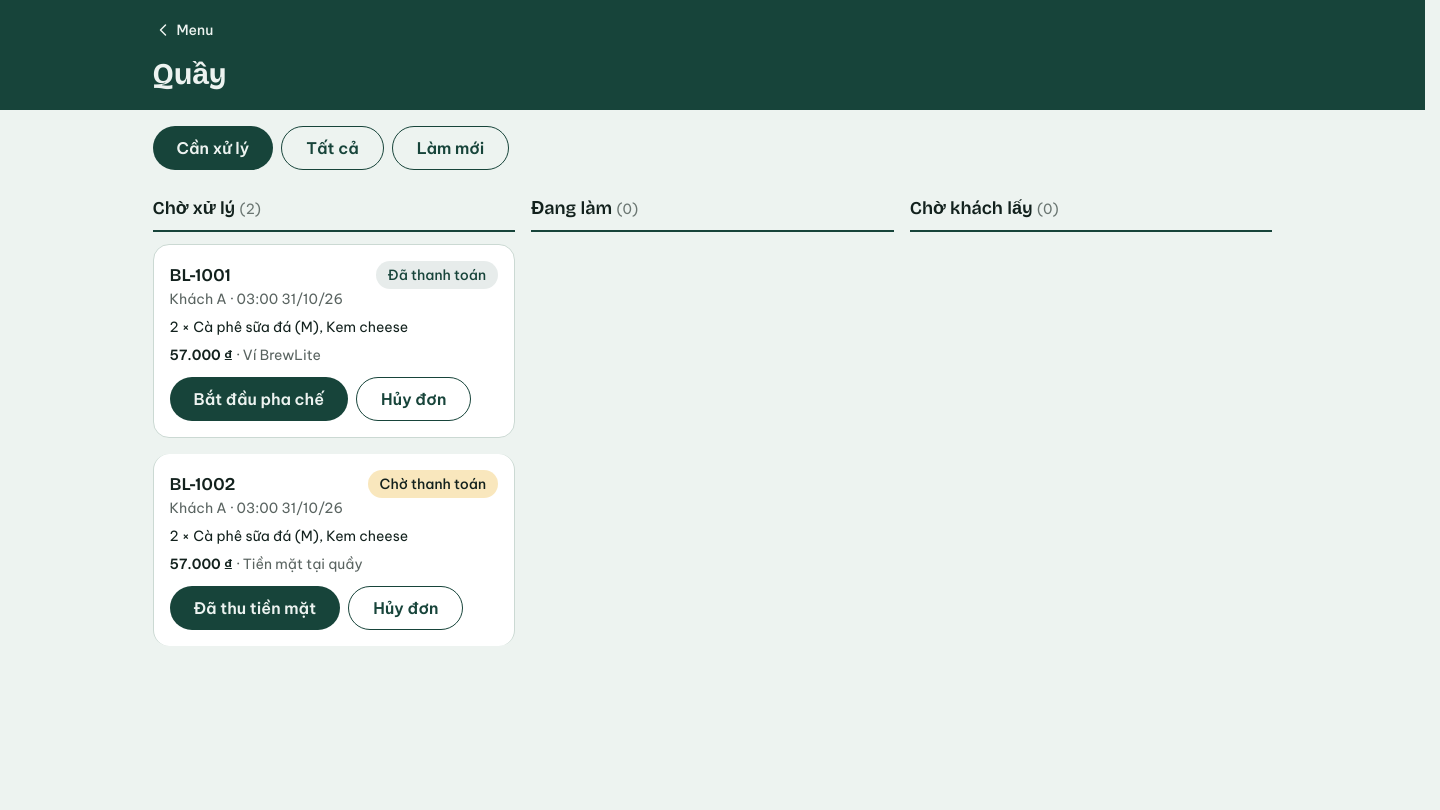
it: StaffOrdersScreen › bộ lọc Tất cả hiện mọi đơn
The image size is (1440, 810).
expect the text "BL-1001" is shown: met, box [170,264,231,286]
Click the button "Tất cả". click: (333, 148)
box: [281,126,384,170]
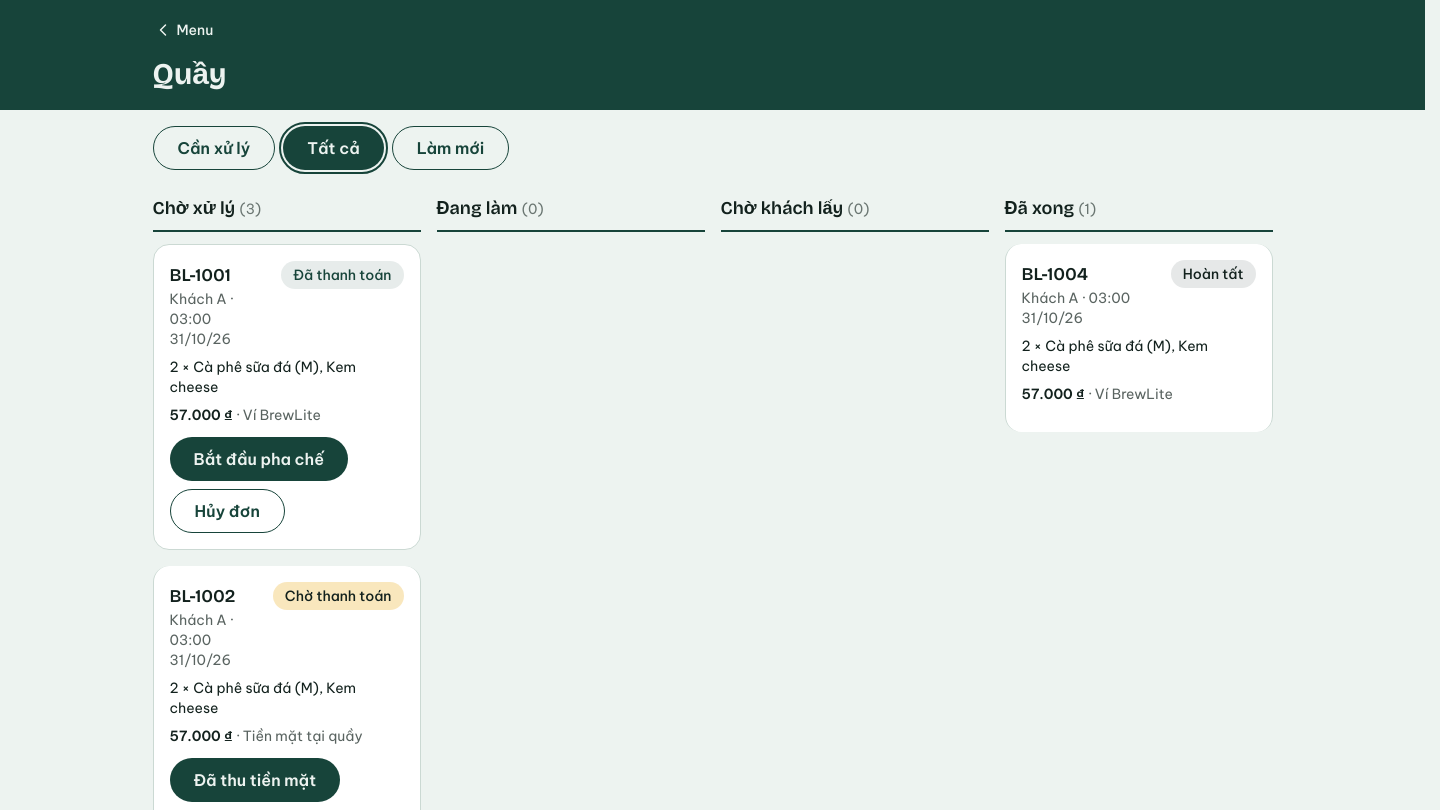
expect the text "BL-1004" is shown: met, box [1022,262,1088,284]
